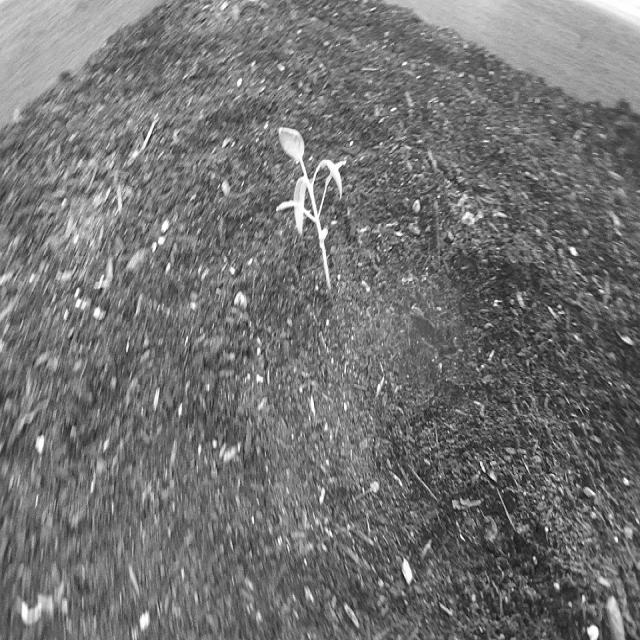Healthy: (271, 124, 351, 298)
